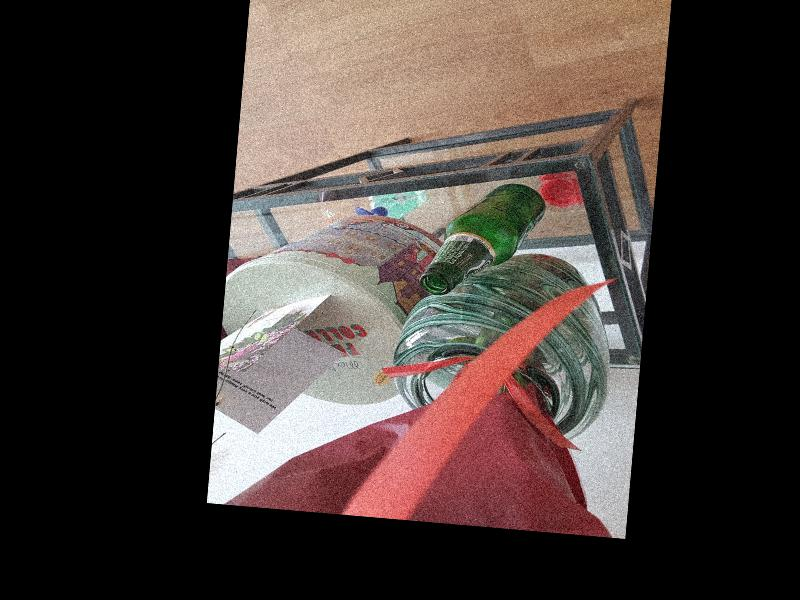Beer: (419, 176, 548, 303)
